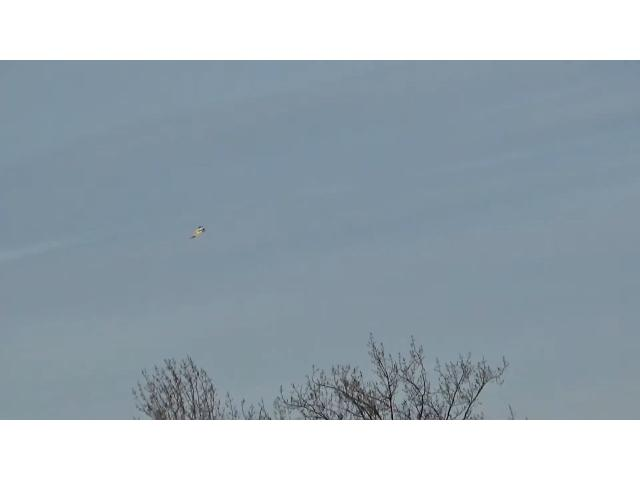Anti-Drone: (190, 226, 204, 239)
